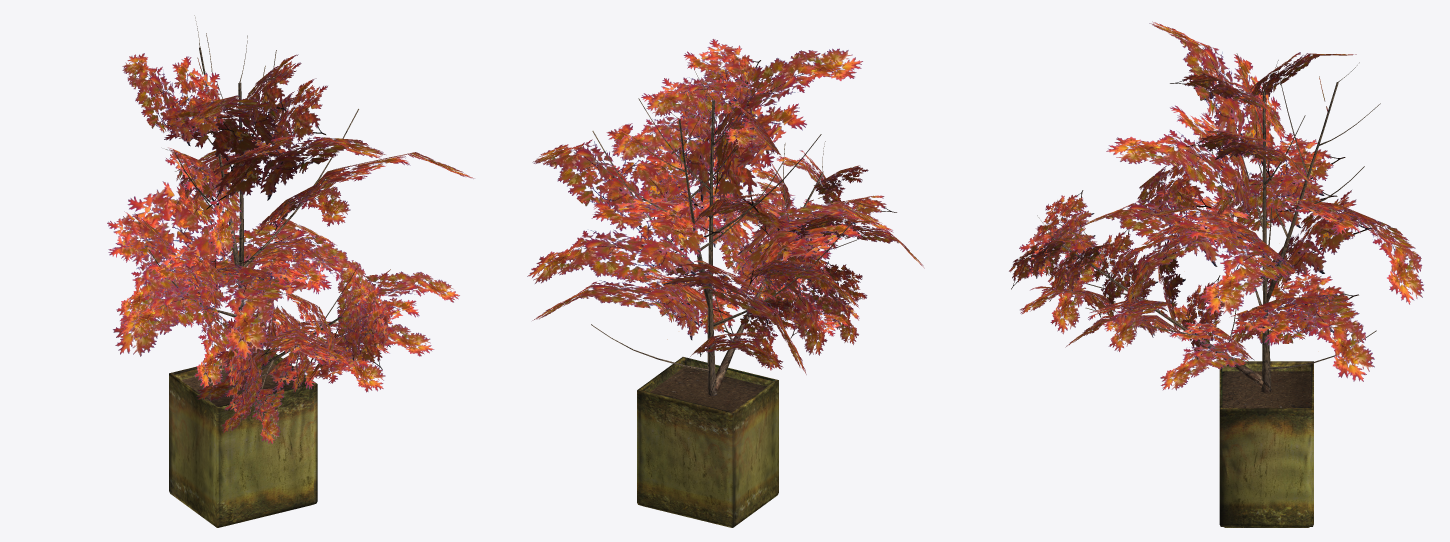
File: potted plant 09.FBX
The picture shows the model from 3 angles, left to right: view 1: azimuth 30°, elevation 25°; view 2: azimuth 150°, elevation 25°; view 3: azimuth 270°, elevation 25°; orthographic projection. The views are drawn at different scales.
Parts seen in each view (by area): view 1: potted plant 09; view 2: potted plant 09; view 3: potted plant 09.
Part boxes in pixels (box(x1,y1,x2,y2)): potted plant 09: box(107, 15, 474, 527); potted plant 09: box(527, 39, 924, 527); potted plant 09: box(1009, 21, 1423, 527).
Size of the model in its own units: 229 by 249 by 229.
3 materials, 3 textured.
